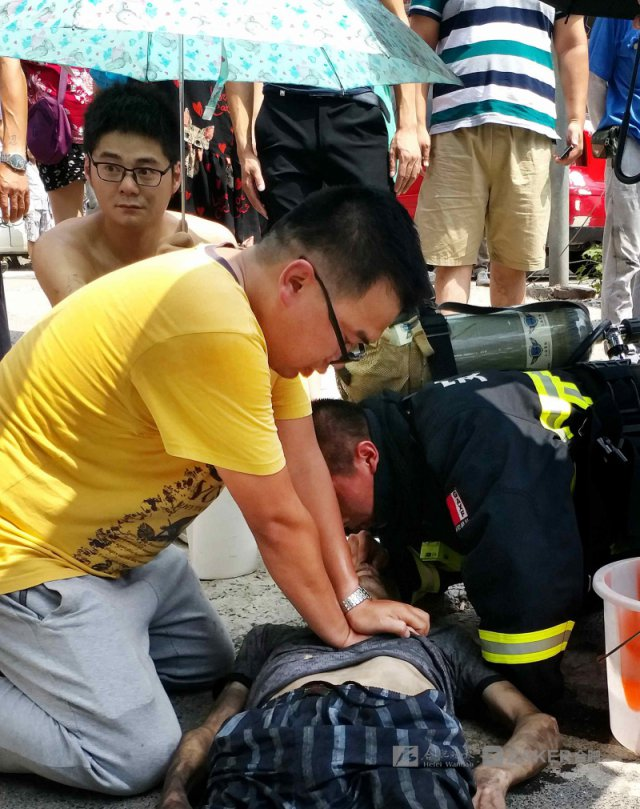fall: (121, 533, 589, 807)
